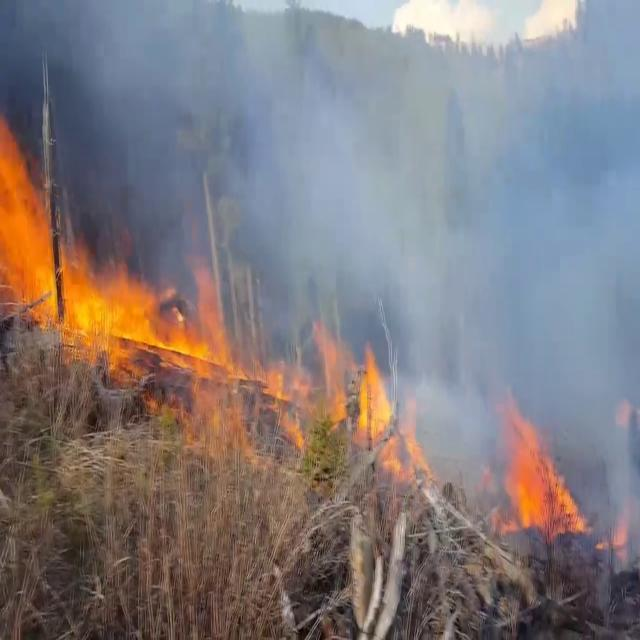Fire: (251, 305, 409, 465), (0, 125, 96, 362), (95, 244, 231, 390), (498, 402, 588, 540)
Smoke: (124, 0, 640, 383)
